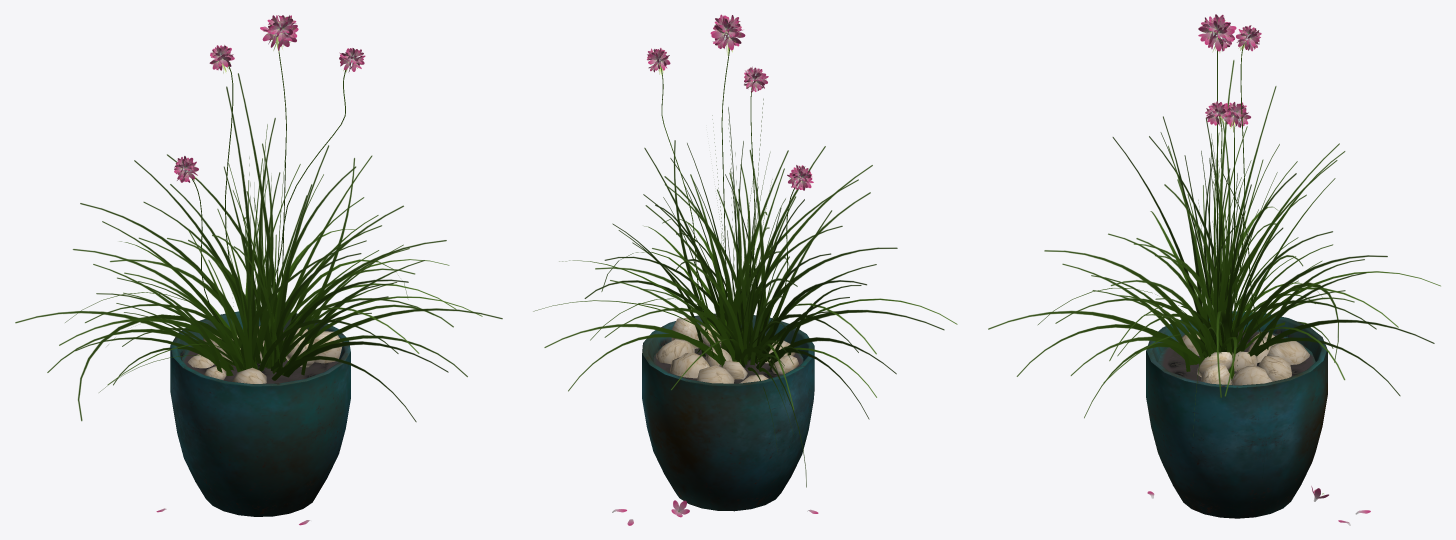
Rendered from floresmaceta.glb.
3 views of the same model, side by side, from view 1: azimuth 30°, elevation 25°; view 2: azimuth 150°, elevation 25°; view 3: azimuth 270°, elevation 25° (orthographic). The views are drawn at different scales.
Visible parts, largest first — view 1: Grass_Grass_0, Pot, rocks-_Pot_0, Flowers_Flowers_0.003; view 2: Grass_Grass_0, Pot, rocks-_Pot_0, Flowers_Flowers_0.003; view 3: Grass_Grass_0, Pot, rocks-_Pot_0, Flowers_Flowers_0.003.
Part boxes in pixels (x1,y1,x2,y2): Grass_Grass_0: (15, 73, 502, 422); Pot: (170, 311, 350, 516); rocks-_Pot_0: (187, 326, 341, 383); Flowers_Flowers_0.003: (260, 15, 298, 52); Grass_Grass_0: (533, 98, 957, 487); Pot: (642, 313, 814, 511); rocks-_Pot_0: (656, 318, 798, 383); Flowers_Flowers_0.003: (710, 14, 745, 55); Grass_Grass_0: (988, 60, 1440, 436); Pot: (1146, 311, 1327, 518); rocks-_Pot_0: (1182, 332, 1309, 385); Flowers_Flowers_0.003: (1198, 14, 1236, 52).
Bounding box in the file's own units: 2.62 × 3.05 × 2.59.
3 materials, 3 textured.
